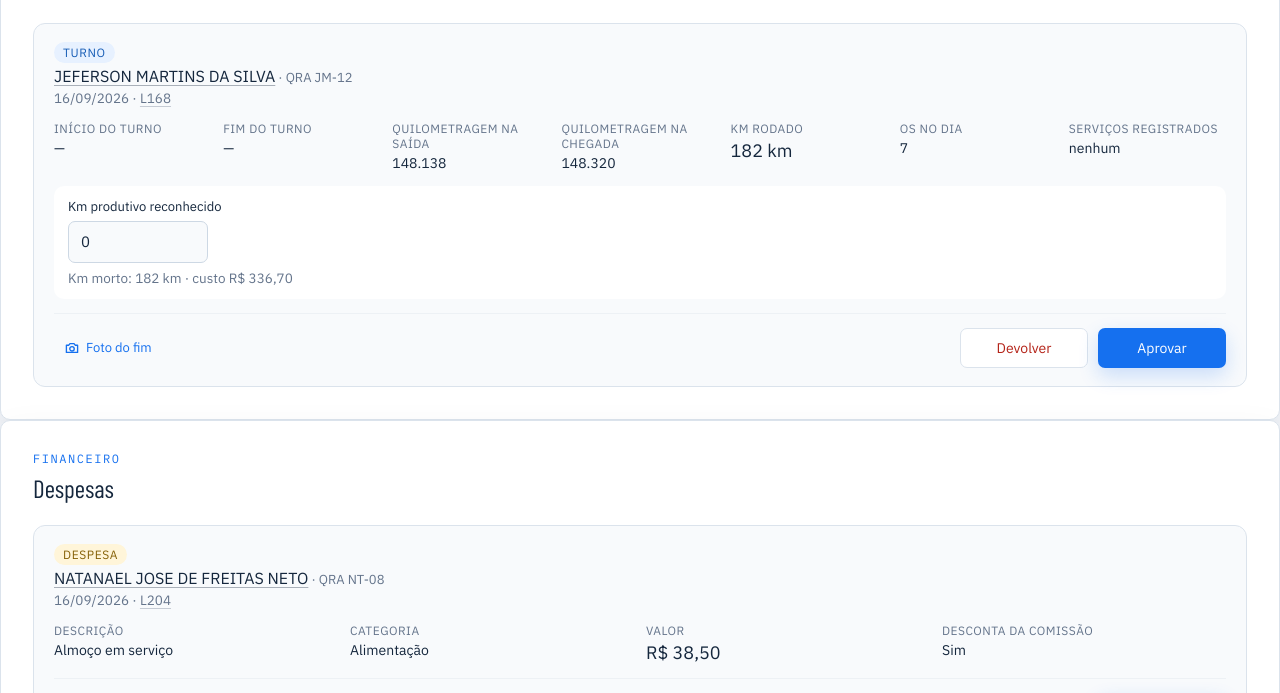
Test: devolver exige o motivo, que e o que o socorrista vai ler
(page scrolled)
Click the button "Devolver": (1024,348) [960,328,1088,368]
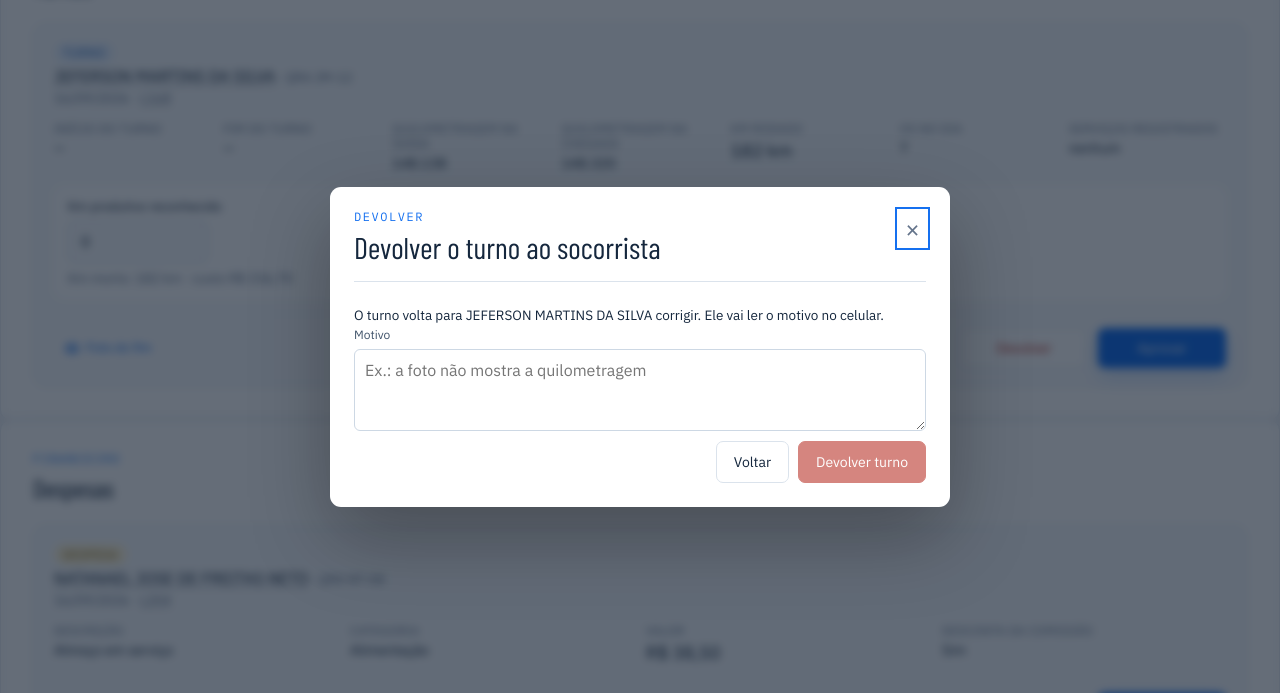
expect the button "Devolver turno" is disabled: met, box [798,441,926,483]
In the text box with placeholder "Ex.: a foto não mostra a quilometragem": (640,390) [354,349,926,431], type "A foto não mostra o odômetro."
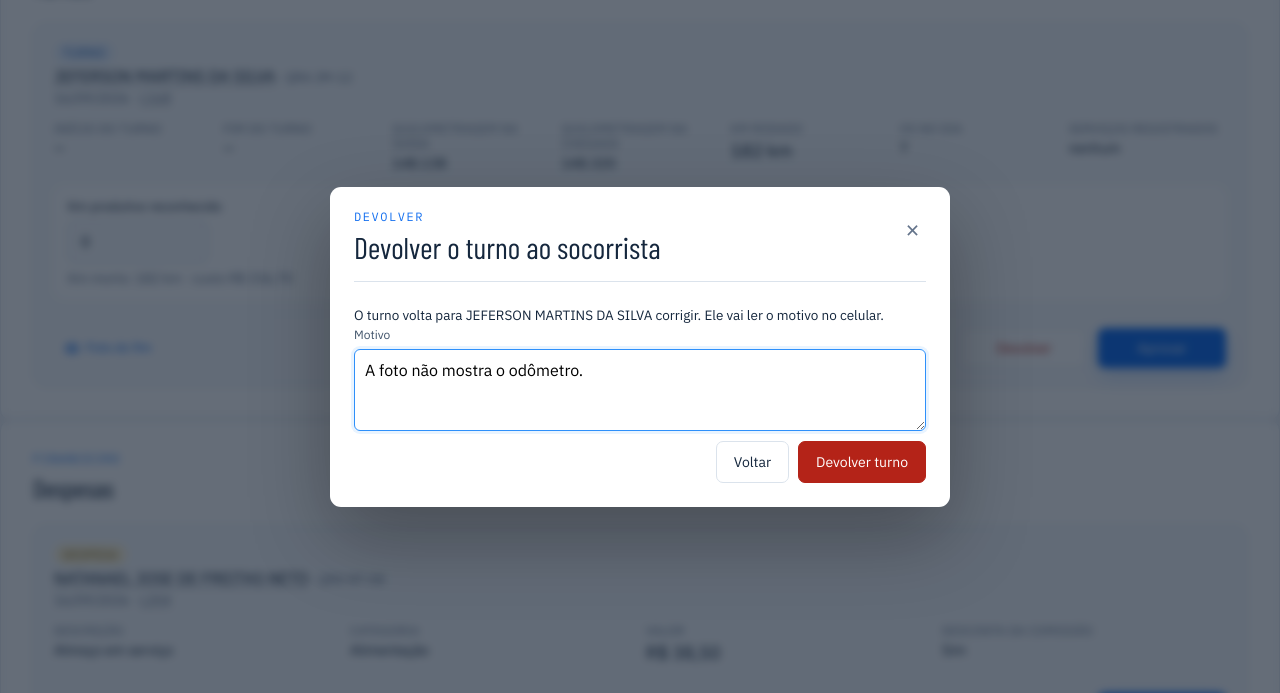
expect the button "Devolver turno" is enabled: met, box [798,441,926,483]
